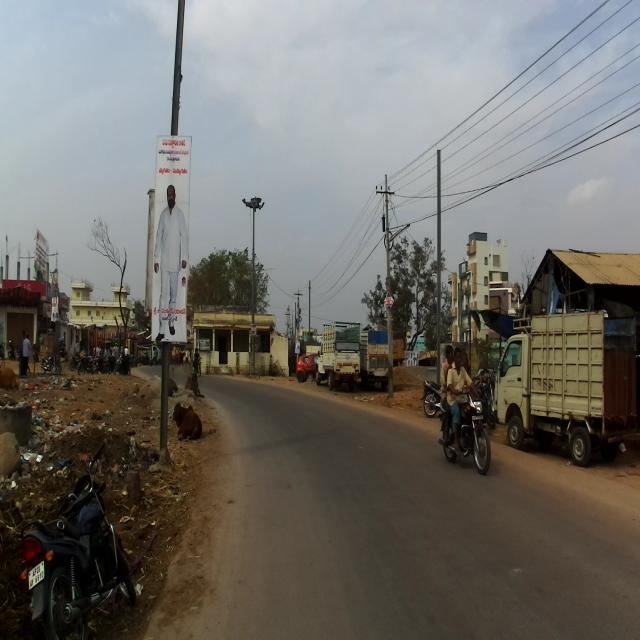cattle ahead at: (171, 392, 204, 453)
electric pole ahead at: (152, 0, 192, 459)
motorcycle ahead at: (21, 441, 140, 640), (430, 384, 493, 482)
truck ahead at: (496, 311, 633, 453)
